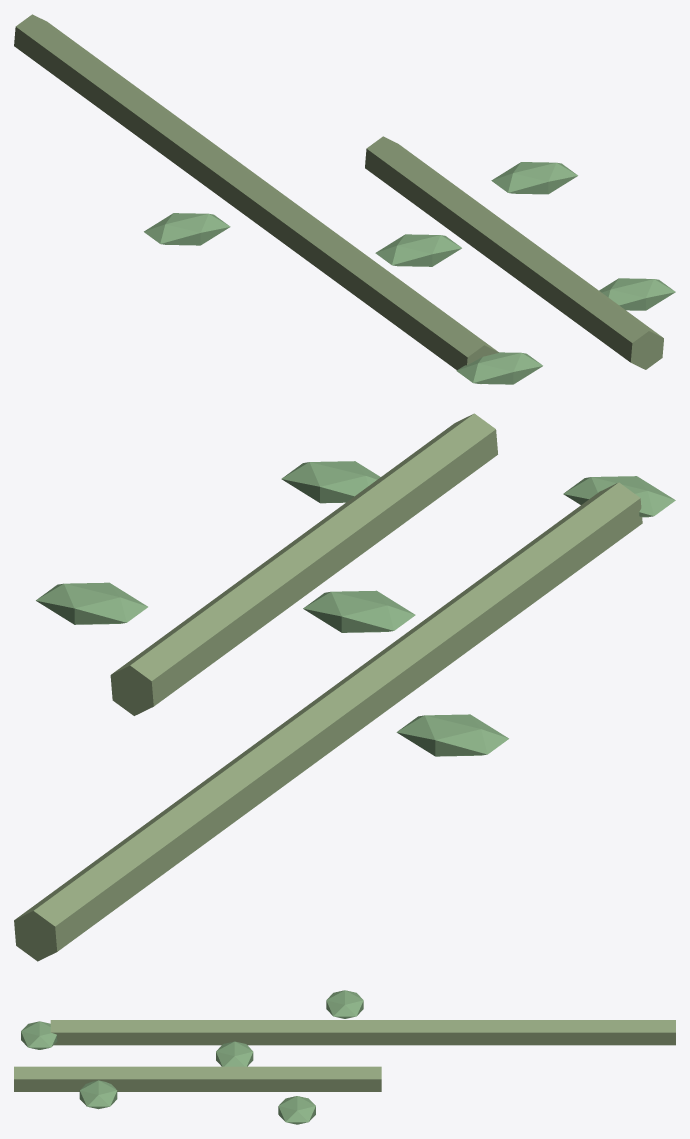
Rendered from liana_vine.glb.
3 renders of one model, top to bottom at view 1: azimuth 30°, elevation 25°; view 2: azimuth 150°, elevation 25°; view 3: azimuth 270°, elevation 25°, orthographic. The views are drawn at different scales.
Visible parts, largest first — view 1: world; view 2: world; view 3: world.
Boxes of the visible parts, x1=… form: world: x1=14, y1=14, x2=675, y2=384; world: x1=14, y1=413, x2=675, y2=961; world: x1=14, y1=990, x2=675, y2=1124.
Size of the model in its own units: 0.8331 by 0.0797 by 1.8.
